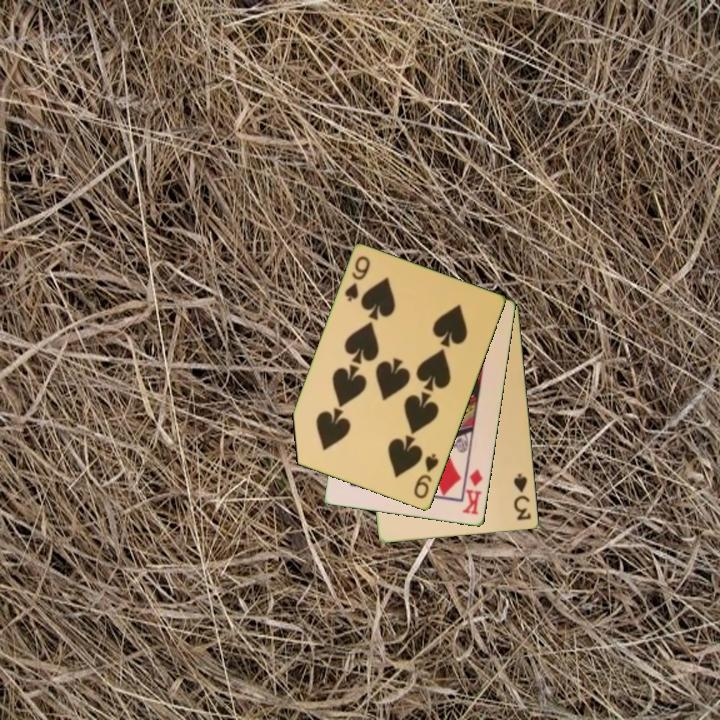3s: (510, 470, 534, 523)
9s: (410, 450, 442, 502), (341, 253, 373, 305)
Kd: (459, 462, 486, 518)
